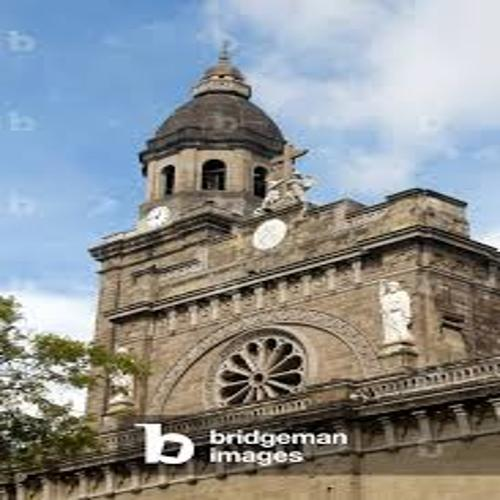Manila Cathedral Church: (70, 46, 497, 455)
